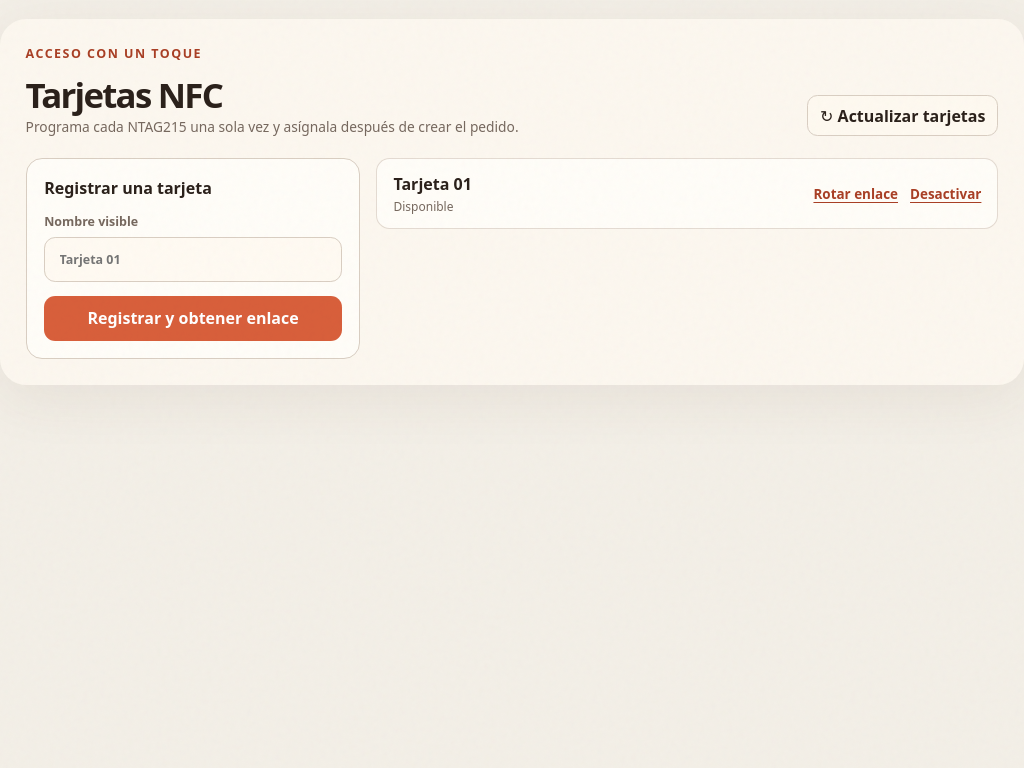
NfcTagManager › registers a card and exposes its one-time programming URL
Expected: the text "Tarjeta 01" is shown, 394,173 -> 472,195
Type "Tarjeta 02" into the field with placeholder "Tarjeta 01" at (193, 260), box 44,237 -> 342,282
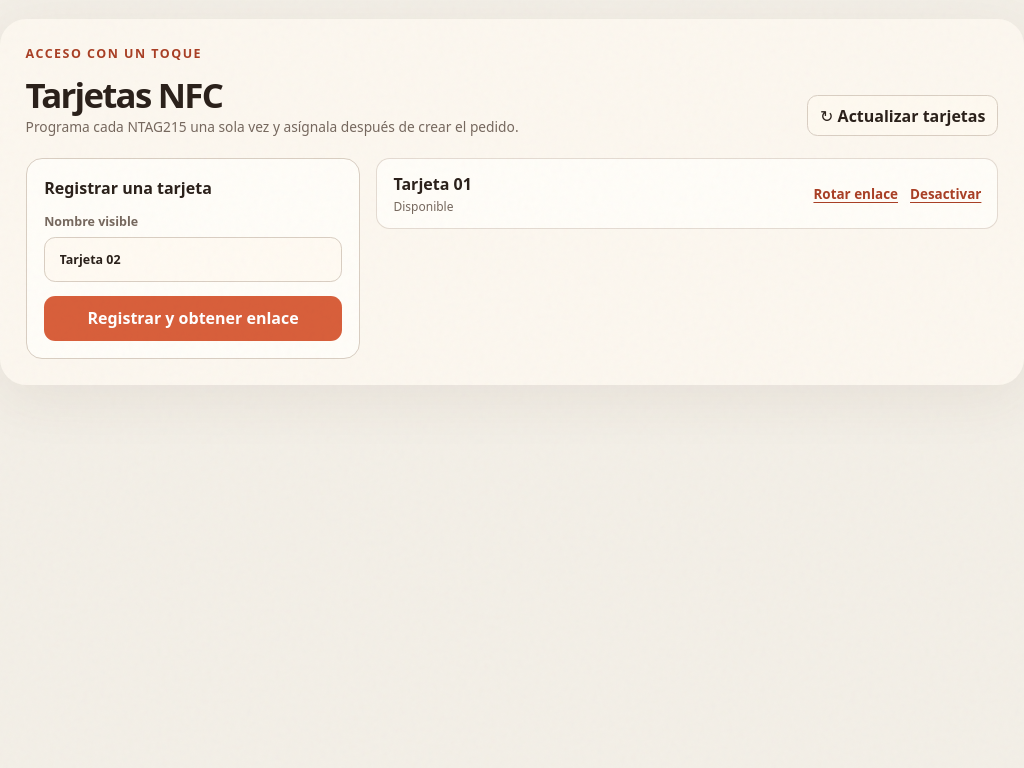
Click the button "Registrar y obtener enlace" at (193, 318), box 44,296 -> 342,341
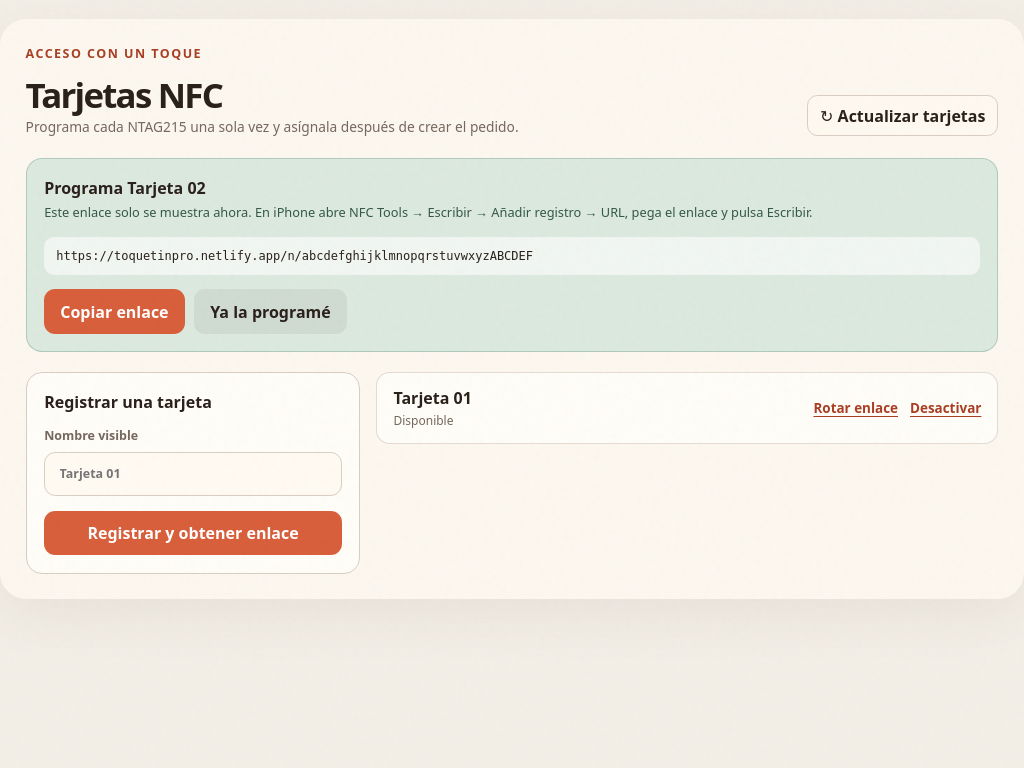
Expected: the text "Programa Tarjeta 02" is shown, 44,177 -> 206,199
Expected: the text "toquetinpro.netlify.app/n/" is shown, 56,249 -> 533,263
